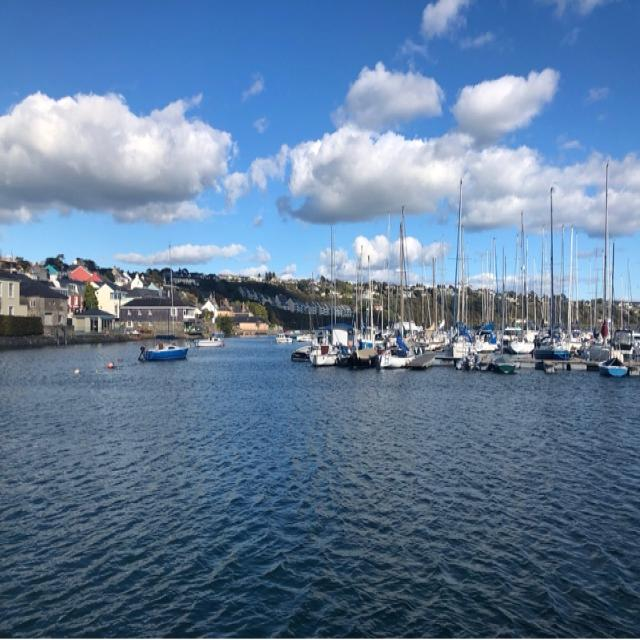houseboat: (303, 336, 362, 375), (120, 326, 189, 359), (378, 342, 437, 375)
